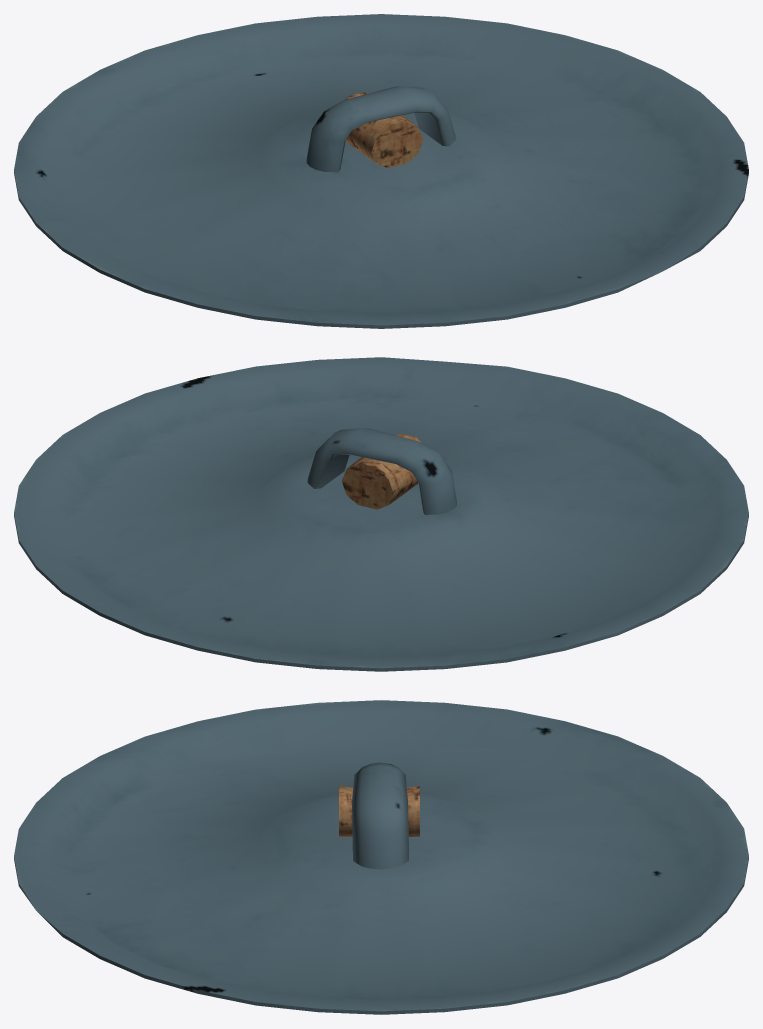
The model's file is Pan03_Cap01.FBX.
3 views of the same model, one above another, from view 1: azimuth 30°, elevation 25°; view 2: azimuth 150°, elevation 25°; view 3: azimuth 270°, elevation 25° (orthographic).
Parts seen in each view (by area): view 1: Pan03_Cap01_LOD0; view 2: Pan03_Cap01_LOD0; view 3: Pan03_Cap01_LOD0.
Part boxes in pixels (x1,y1,x2,y2): Pan03_Cap01_LOD0: (14,14,748,328); Pan03_Cap01_LOD0: (14,357,748,671); Pan03_Cap01_LOD0: (14,700,748,1014).
Bounding box in the file's own units: 18.93 × 18.89 × 2.72.
